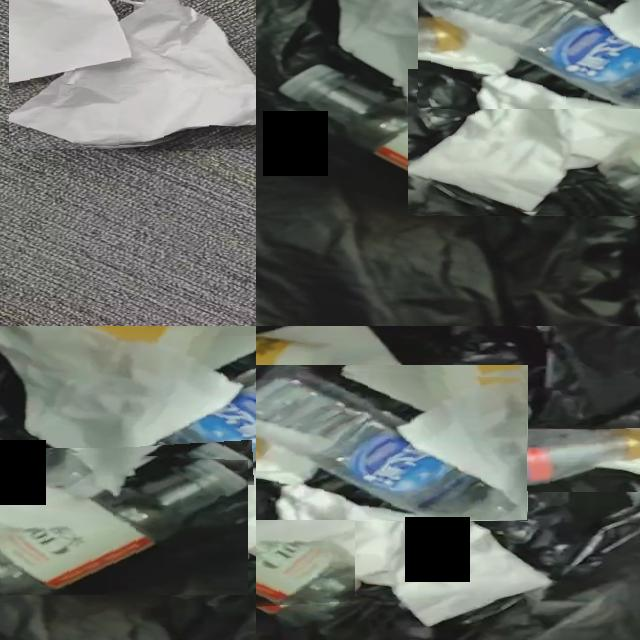bottle: (278, 64, 564, 212), (256, 368, 526, 520), (0, 457, 248, 595), (418, 0, 640, 104), (115, 370, 256, 493), (483, 429, 640, 492), (256, 545, 355, 607)
dixie_cup: (89, 326, 222, 370), (256, 334, 327, 394)
paper: (256, 483, 550, 626), (0, 326, 240, 488), (9, 0, 256, 147), (408, 69, 640, 214), (337, 0, 553, 106), (257, 326, 406, 404), (109, 476, 256, 555), (256, 376, 349, 478), (409, 418, 543, 484), (200, 326, 256, 374)
